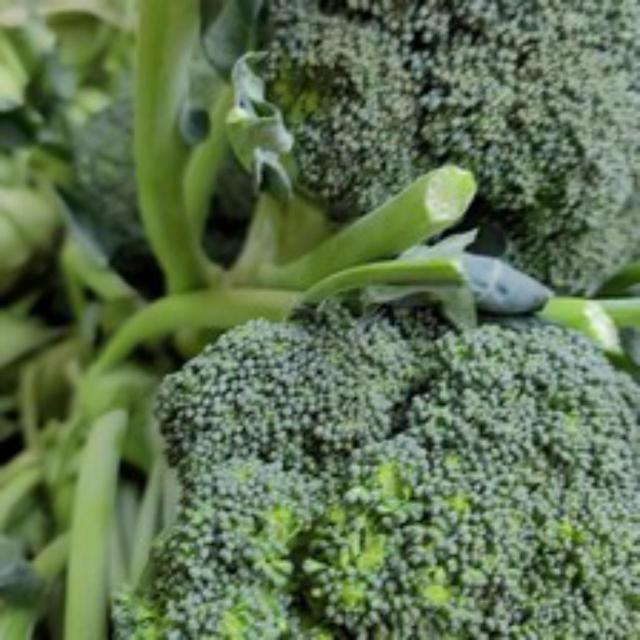broccoli: (117, 274, 637, 637)
